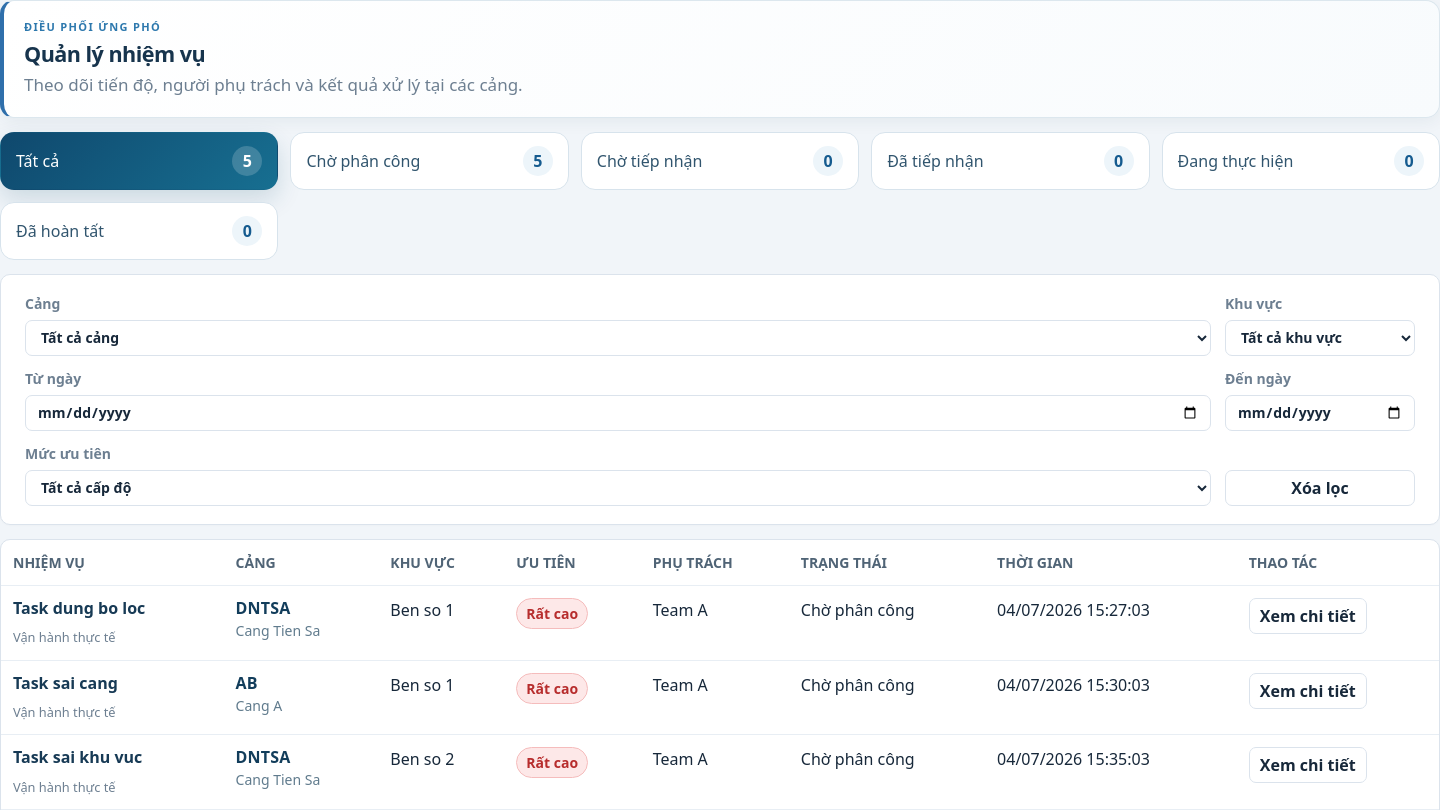
TasksPage › filters task log by port, zone, date range and risk level before paginating
The image size is (1440, 810).
Expected: the text "Task dung bo loc" is shown, [13,597,145,619]
Select "DNTSA - Cang Tien Sa" in the dropdown labelled "Cảng" at (618, 338), box [25,320,1211,356]
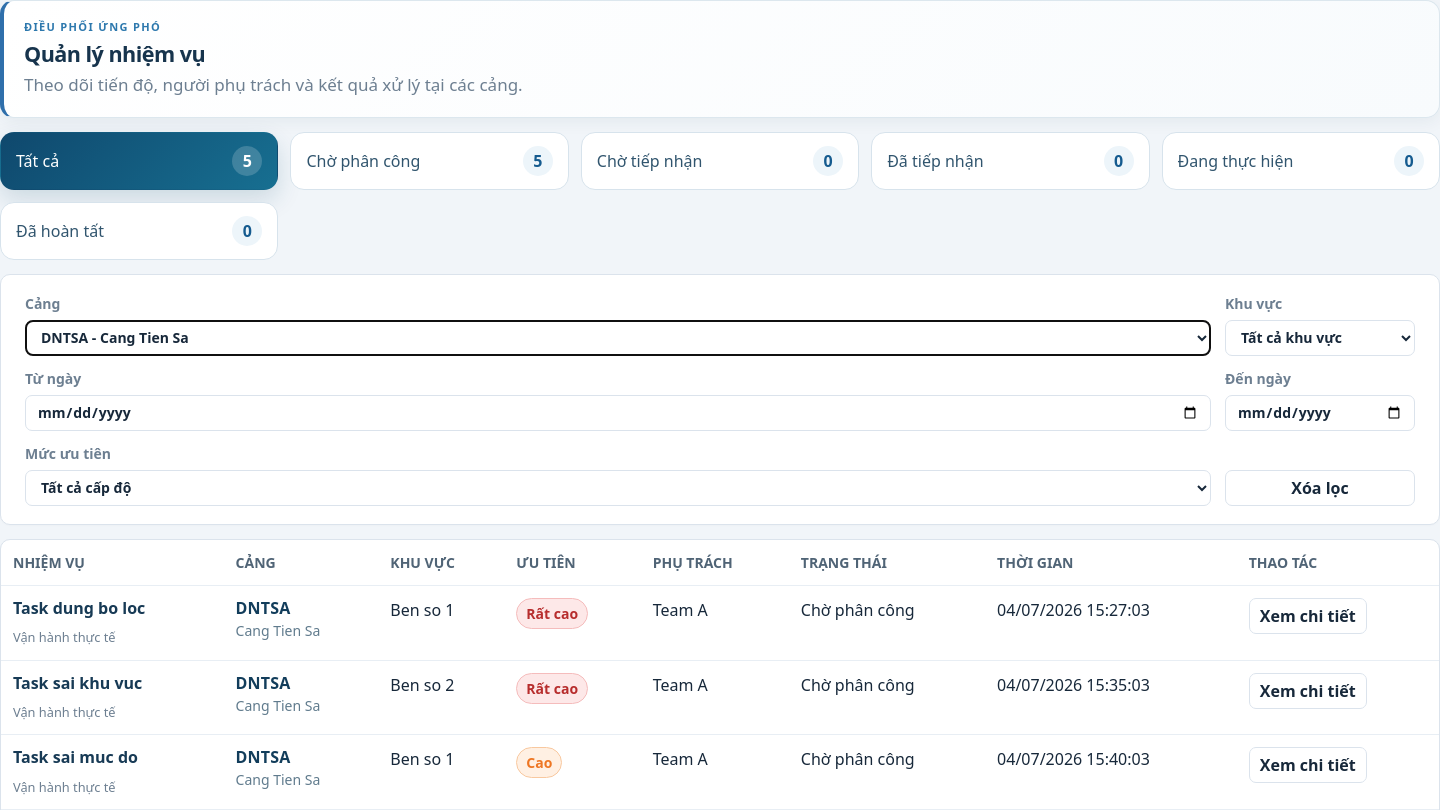
Select "Ben so 1" in the dropdown labelled "Khu vực" at (1320, 338), box [1225,320,1415,356]
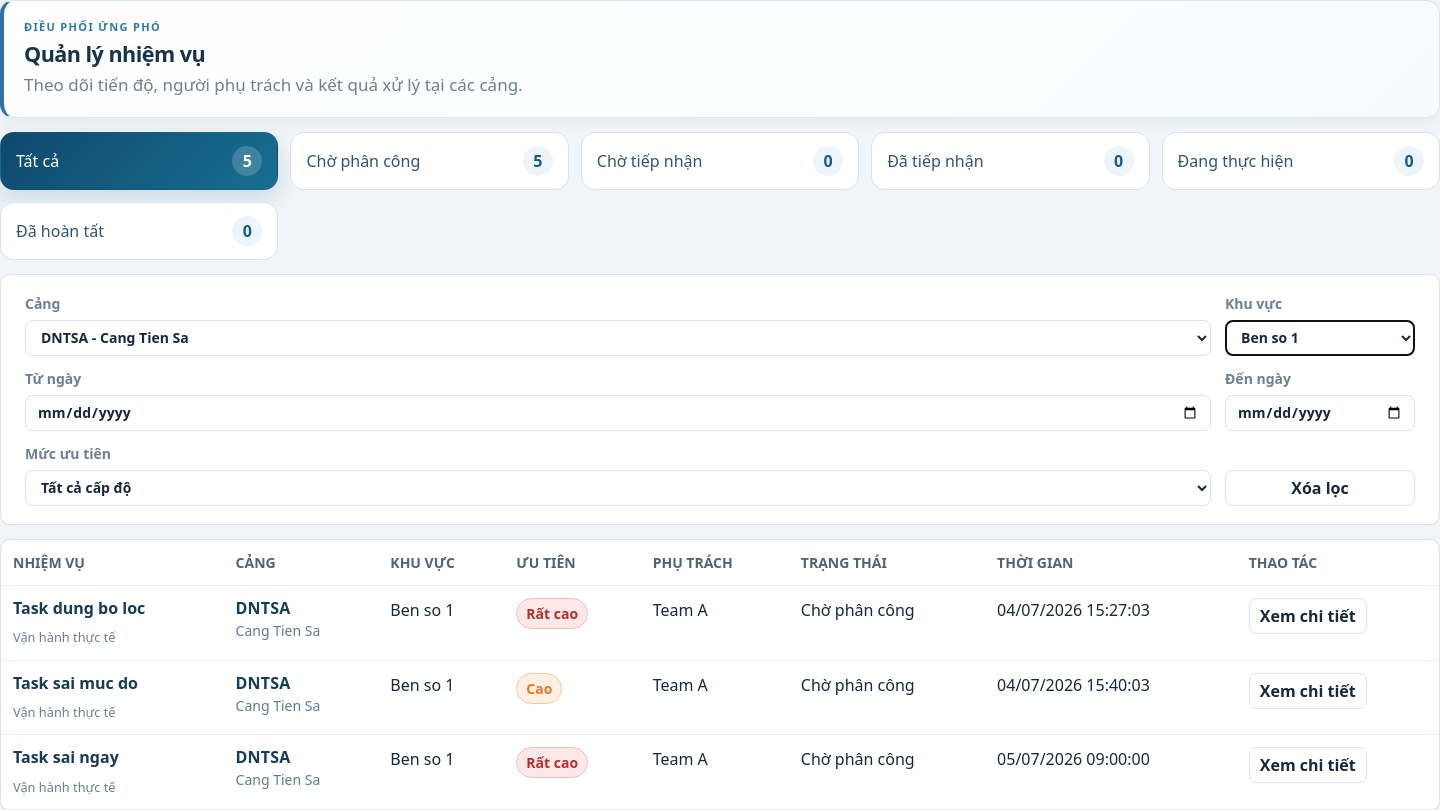
Select "Rất cao" in the dropdown labelled "Mức ưu tiên" at (618, 488), box [25,470,1211,506]
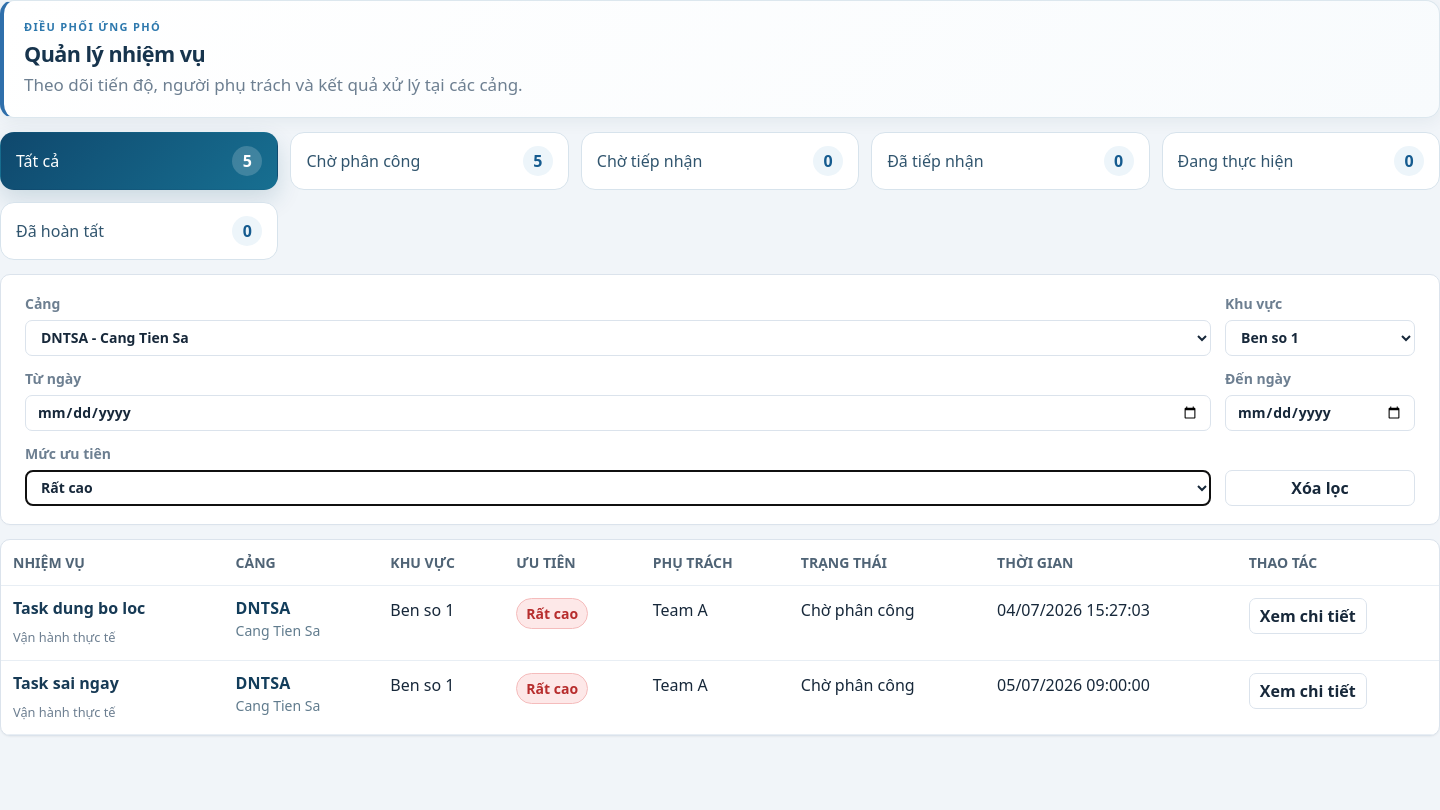
Type "2026-07-04" into the date field labelled "Từ ngày" at (618, 413), box [25,395,1211,431]
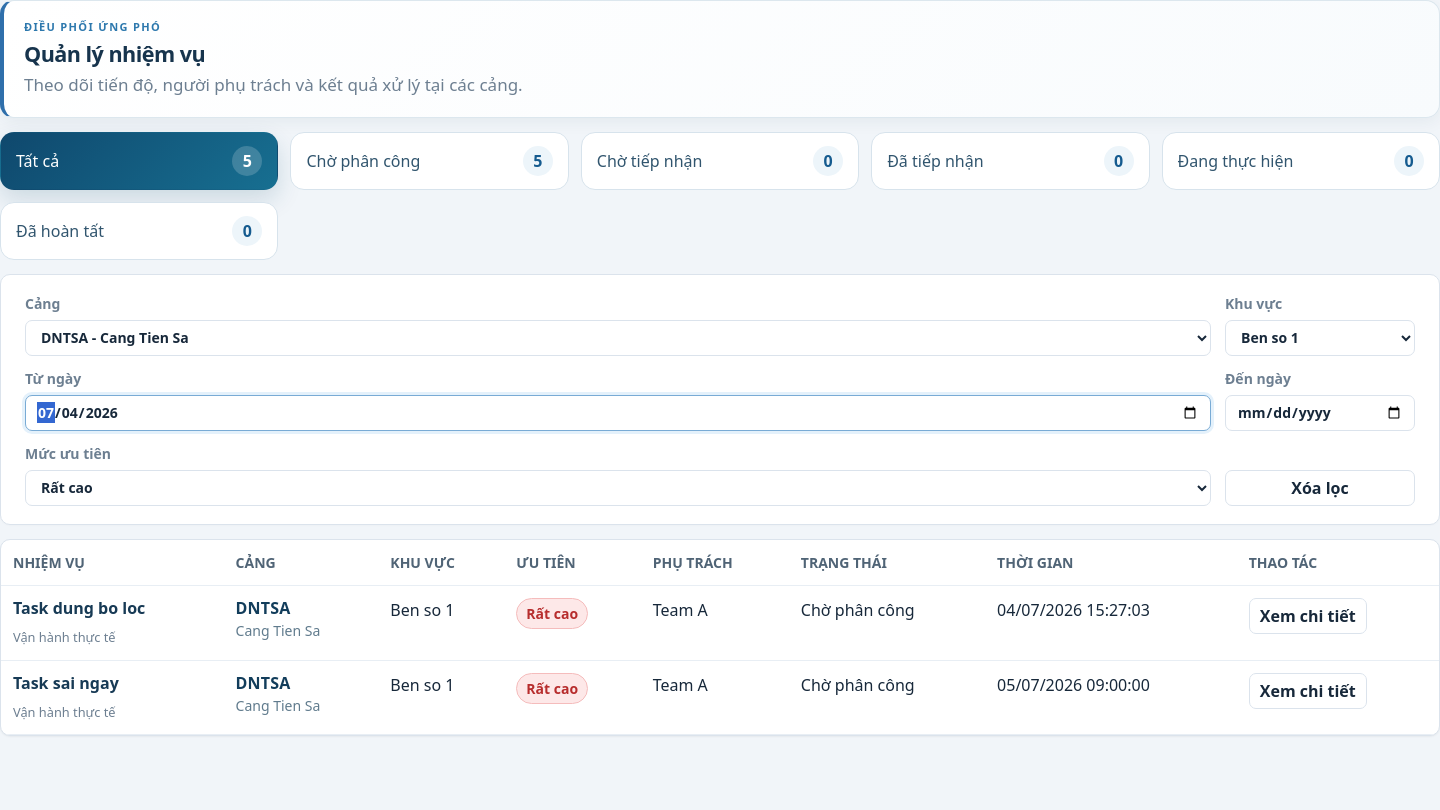
Type "2026-07-04" into the date field labelled "Đến ngày" at (1320, 413), box [1225,395,1415,431]
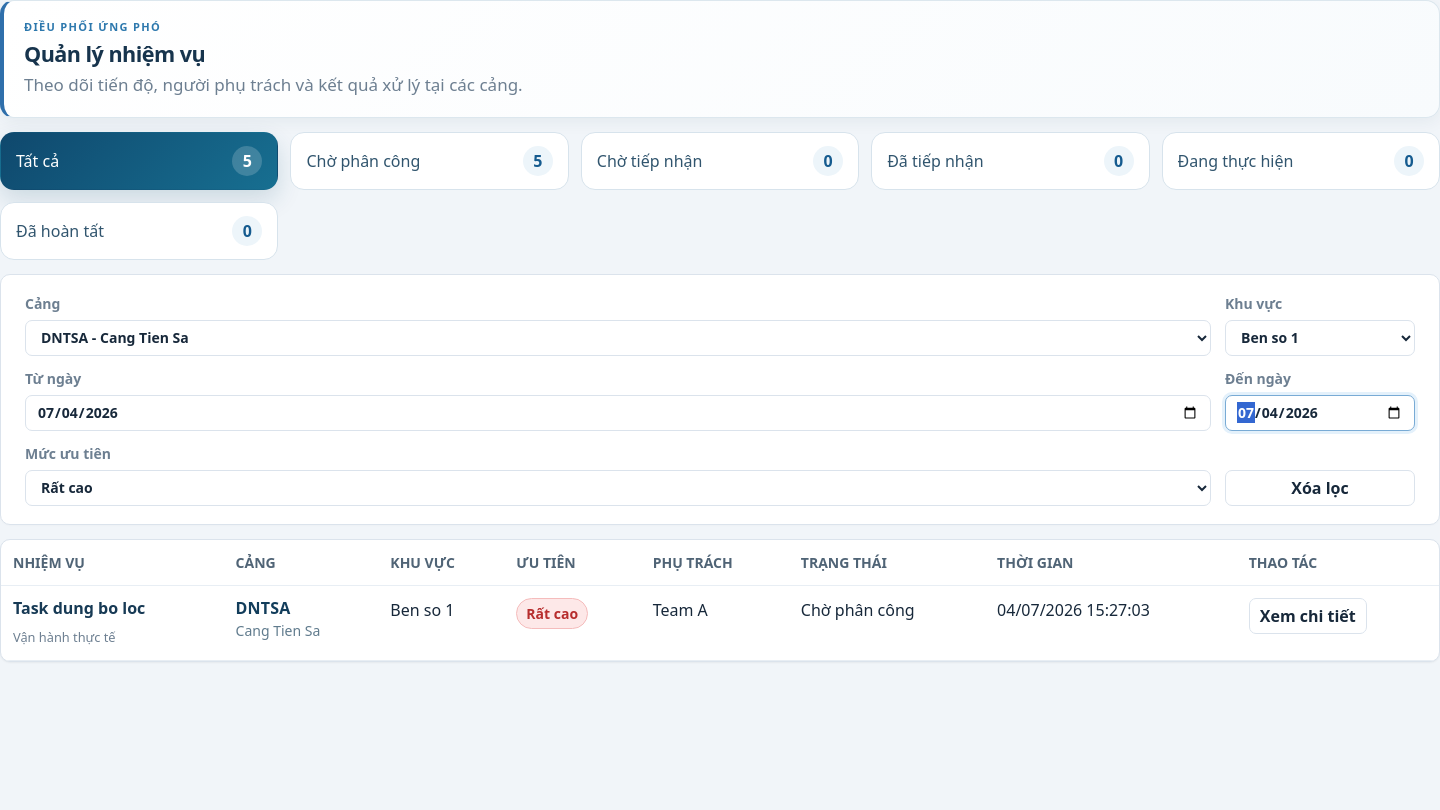
Expected: the text "Task dung bo loc" is shown, [13,597,145,619]
Expected: the text "Task sai ngay" is gone
